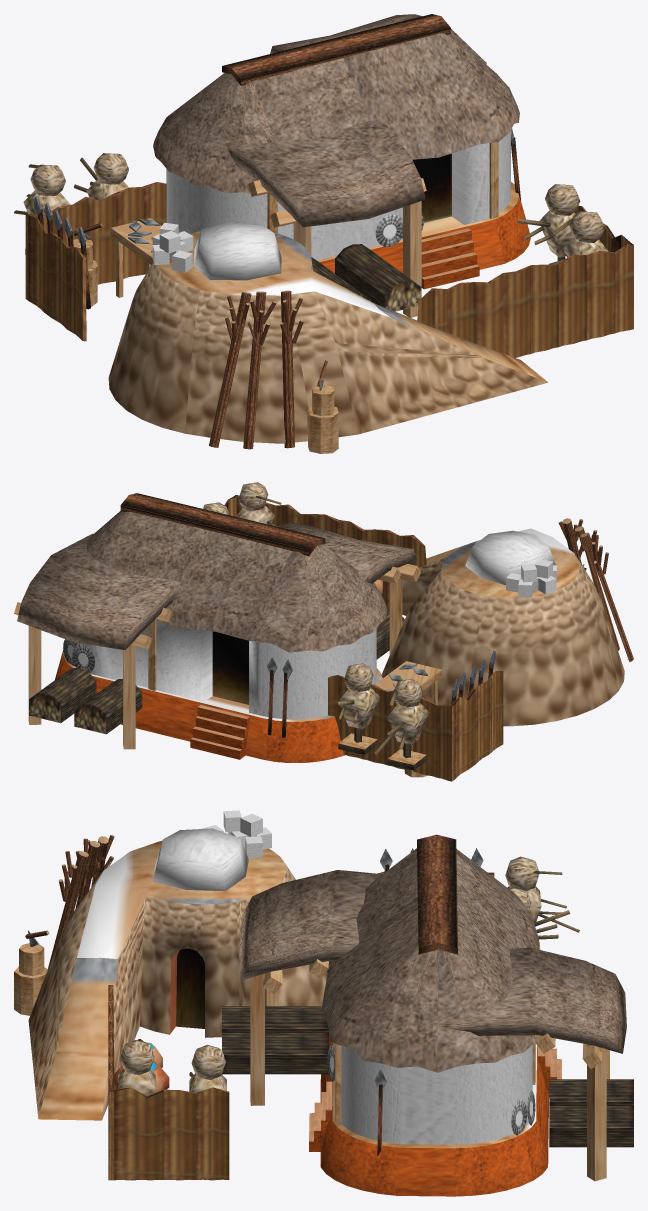
Rendered from forge_2.dae.
The picture shows the model from 3 angles, top to bottom: view 1: azimuth 30°, elevation 25°; view 2: azimuth 150°, elevation 25°; view 3: azimuth 270°, elevation 25°; orthographic projection. The views are drawn at different scales.
Visible parts, largest first — view 1: forja_2; view 2: forja_2; view 3: forja_2.
Part boxes in pixels (<box>): forja_2: <box>14,14,633,453</box>; forja_2: <box>14,482,633,781</box>; forja_2: <box>14,810,633,1196</box>.
Size of the model in its own units: 20.25 by 20.98 by 8.44.
